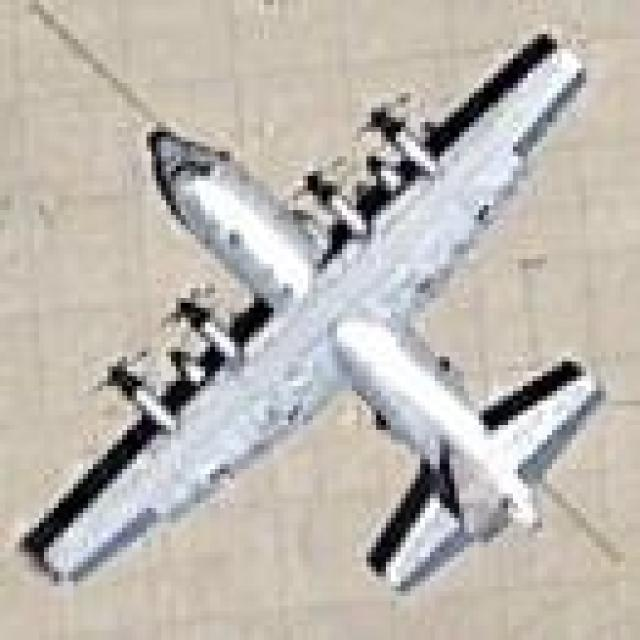C-130_TopDown: (29, 32, 603, 596)
